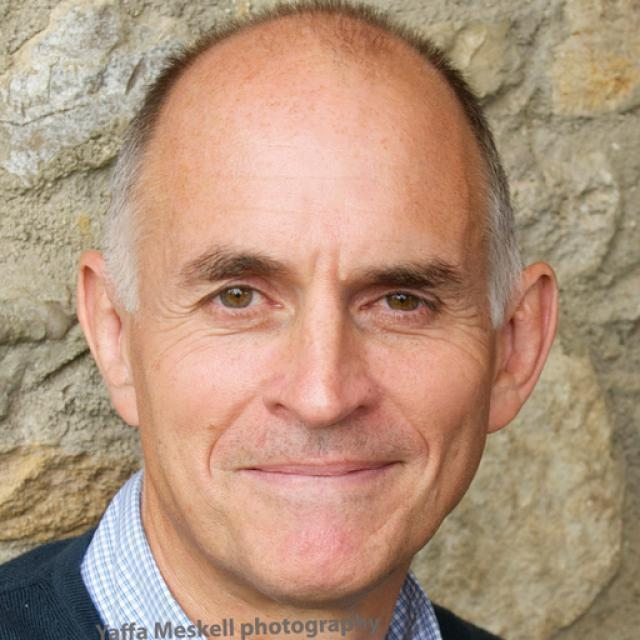0_rostro_limpio: (77, 5, 557, 603)
